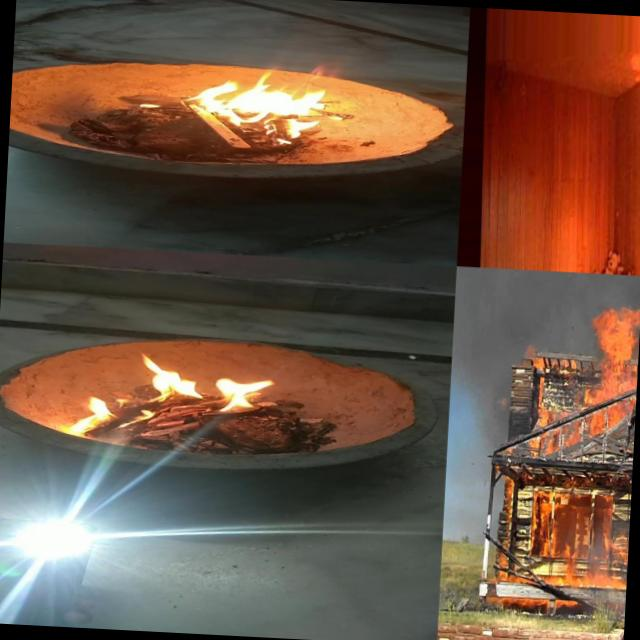fire: (480, 408, 636, 582), (67, 350, 286, 444), (155, 51, 351, 146), (520, 352, 638, 417), (593, 287, 640, 359), (626, 42, 640, 250), (487, 590, 582, 618)
smoke: (452, 266, 597, 357), (584, 584, 626, 632)
